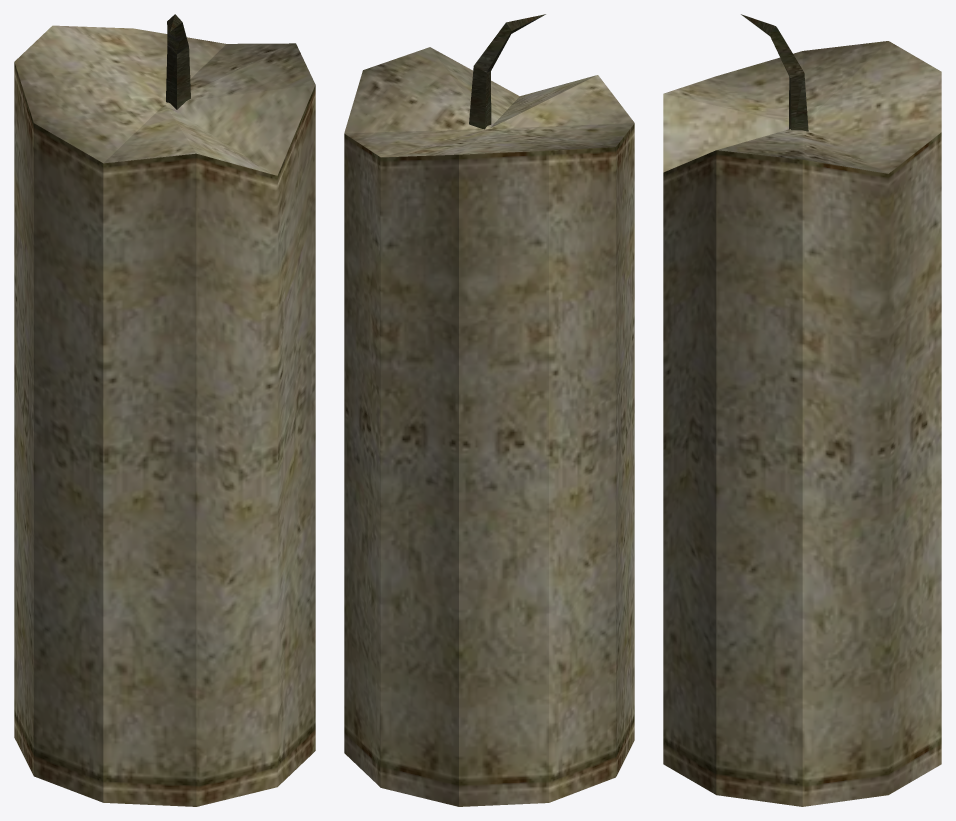
Rendered from KM_VOB_CANDLES_02.glb.
3 renders of one model, left to right at view 1: azimuth 30°, elevation 25°; view 2: azimuth 150°, elevation 25°; view 3: azimuth 270°, elevation 25°, orthographic. The views are drawn at different scales.
Visible parts, largest first — view 1: KM_VOB_CANDLES_02; view 2: KM_VOB_CANDLES_02; view 3: KM_VOB_CANDLES_02.
Part boxes in pixels (x1,y1,x2,y2): KM_VOB_CANDLES_02: (14, 14, 315, 806); KM_VOB_CANDLES_02: (344, 14, 634, 806); KM_VOB_CANDLES_02: (663, 14, 941, 806).
Bounding box in the file's own units: 0.1103 × 0.2984 × 0.1049.
2 materials, 2 textured.
